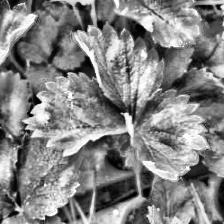Powdery Mildew Leaf: (21, 71, 128, 157), (73, 21, 166, 118), (119, 87, 210, 181), (109, 0, 203, 48)
